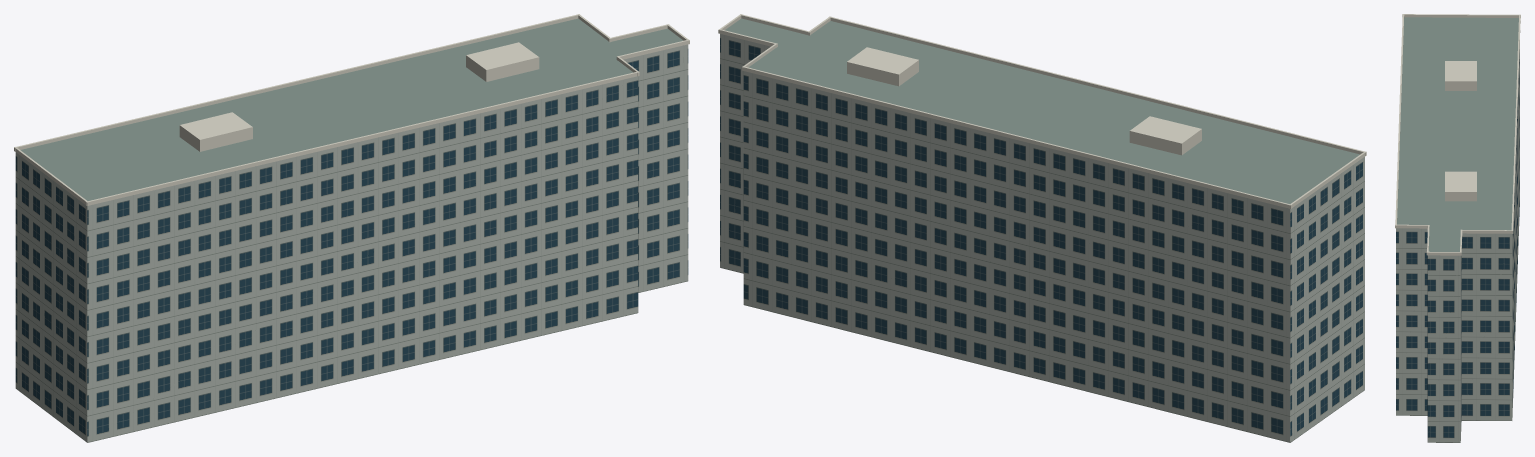
Rendered from intact.glb.
The picture shows the model from 3 angles, left to right: view 1: azimuth 30°, elevation 25°; view 2: azimuth 150°, elevation 25°; view 3: azimuth 270°, elevation 25°; orthographic projection. The views are drawn at different scales.
Parts seen in each view (by area): view 1: SM_IT1V3_Intact; view 2: SM_IT1V3_Intact; view 3: SM_IT1V3_Intact.
Boxes of the visible parts, x1,y1,x2,y2 form: SM_IT1V3_Intact: [14, 14, 689, 442]; SM_IT1V3_Intact: [718, 14, 1366, 442]; SM_IT1V3_Intact: [1395, 14, 1520, 442].
Size of the model in its own units: 2.81 by 1.08 by 0.6256.
Materials: 3 (1 with a texture image).
